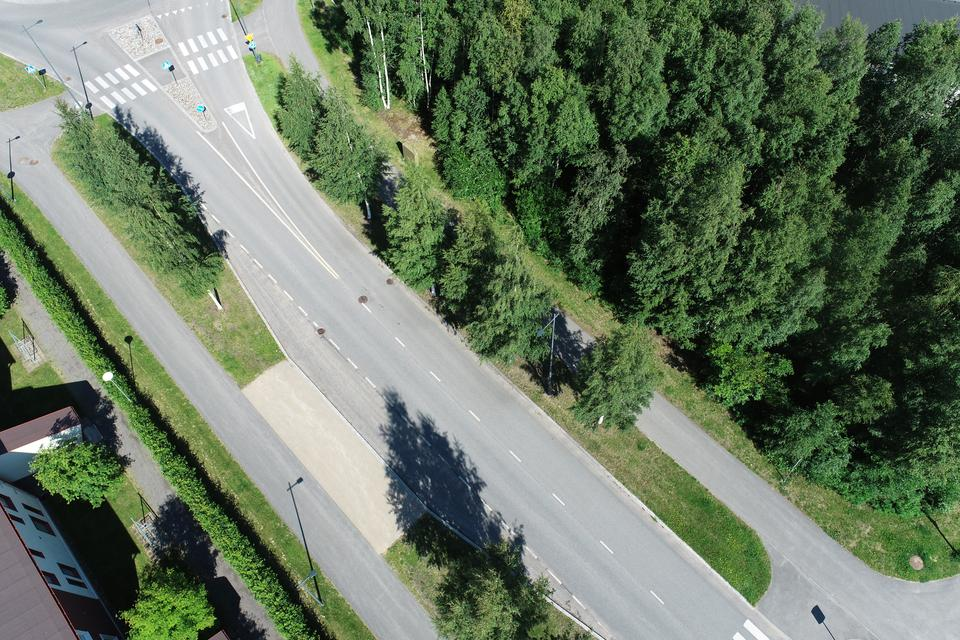intersection: (0, 0, 356, 154), (681, 515, 960, 640)
